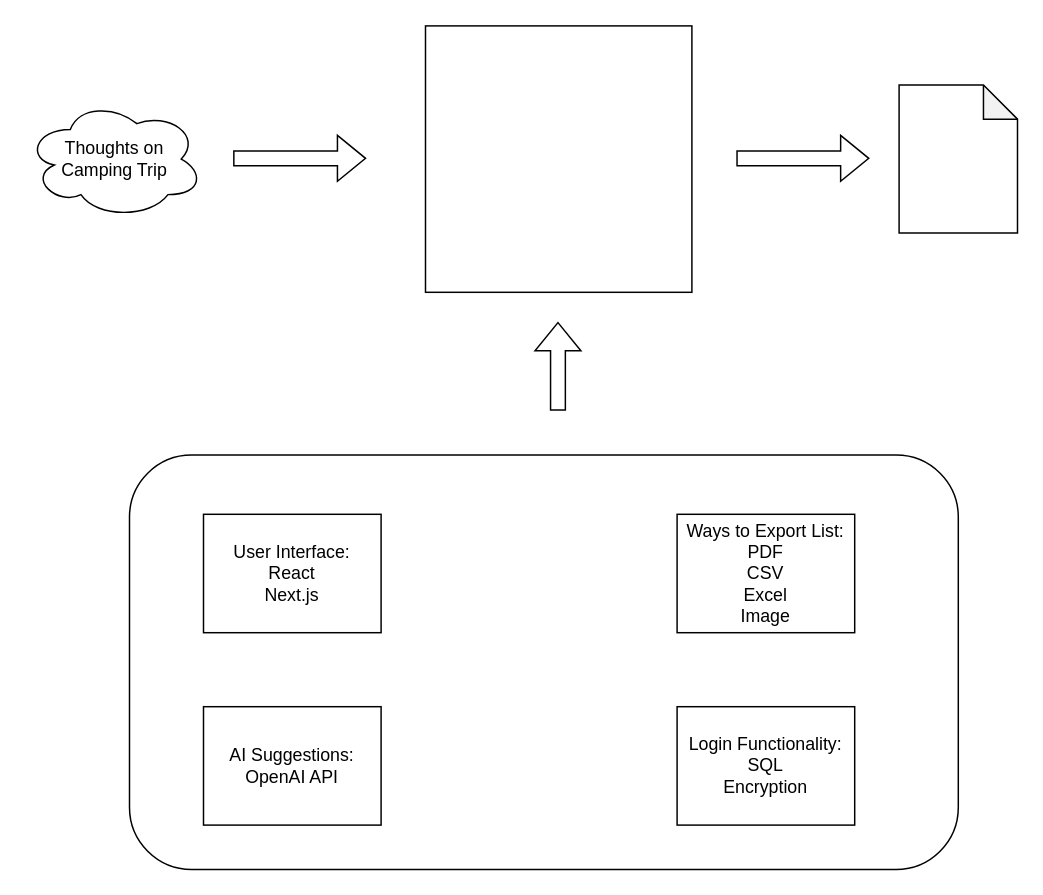
This 1043x895 diagram has some shape labels left out. The box of each missing label's shape, as (x1, y1, x2, y2) in pixels:
List of items to bring for the trip: (898, 84, 1018, 233)
Packing Pal: (424, 24, 692, 292)
